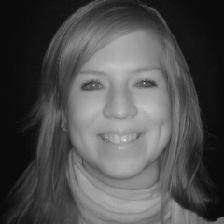happy: (28, 1, 216, 206)
